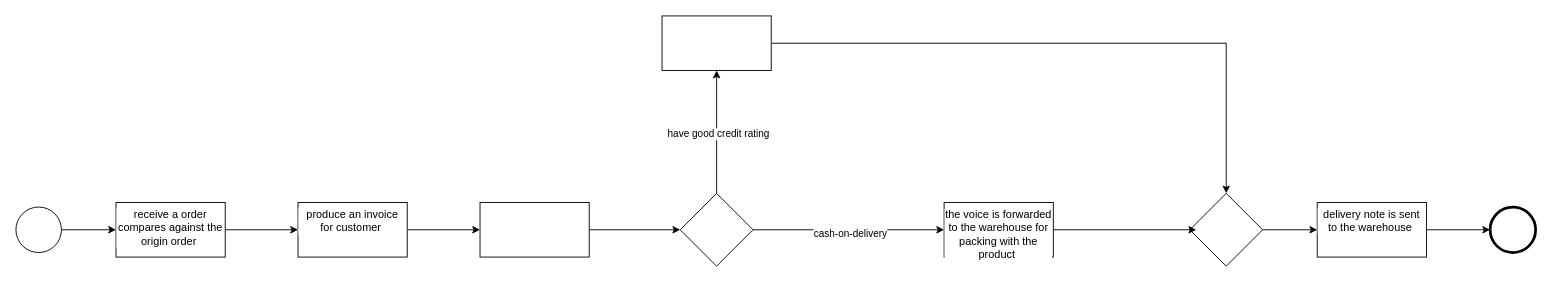
Image size: 1552x282. Some labels were removed from this diagram. The box of each missing label's shape, as (x1, y1, x2, y2) in pixels:
a delivery note to company: (479, 202, 589, 257)
the invoice is sent directly to the customer: (661, 15, 771, 71)
